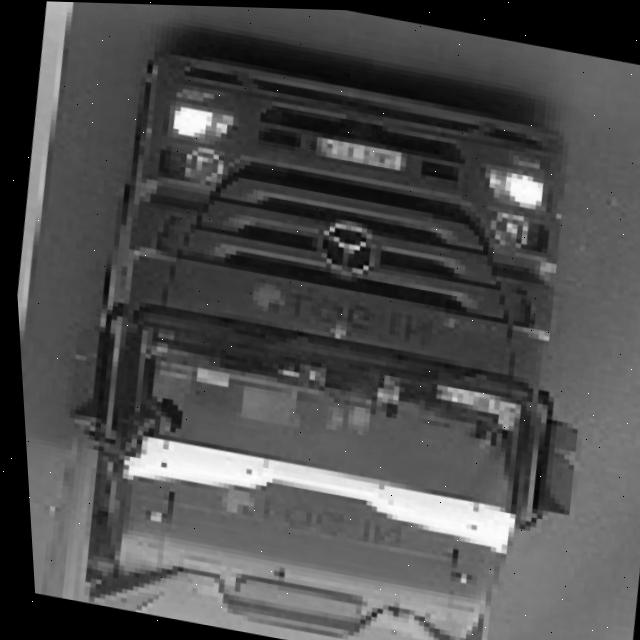truck: (50, 32, 638, 640)
